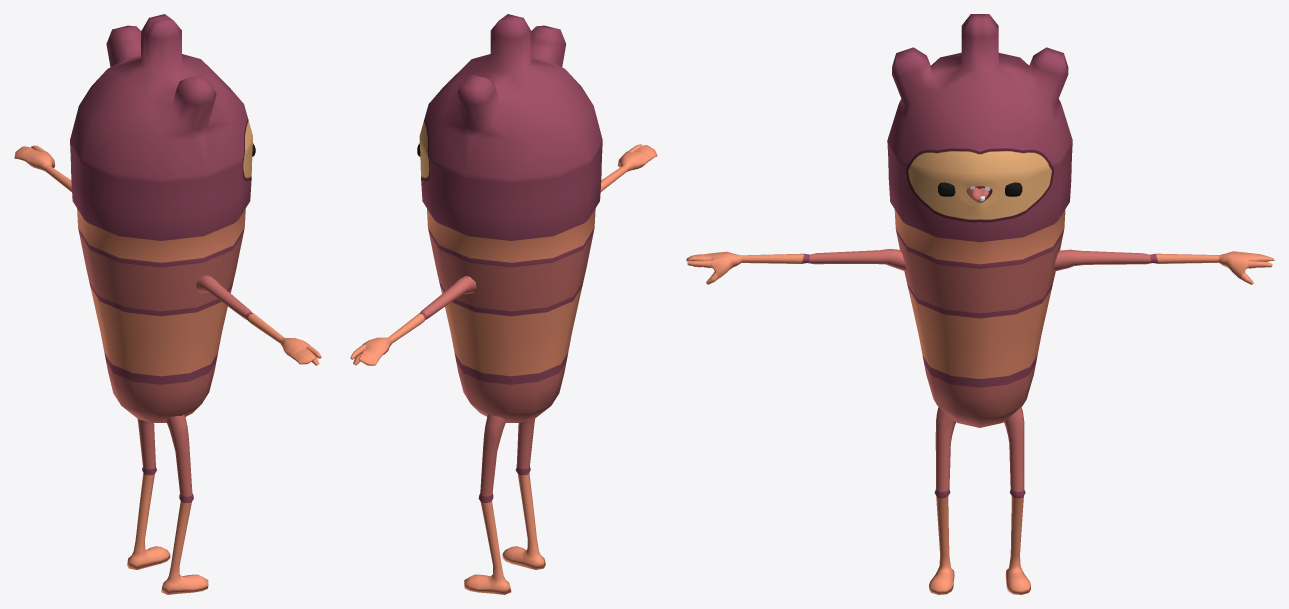
File: avatars_tposing_vegetal.glb
The picture shows the model from 3 angles, left to right: view 1: azimuth 30°, elevation 25°; view 2: azimuth 150°, elevation 25°; view 3: azimuth 270°, elevation 25°; orthographic projection.
Visible parts, largest first — view 1: Body_4; view 2: Body_4; view 3: Body_4.
Part boxes in pixels (x1,y1,x2,y2): Body_4: (14, 14, 321, 594); Body_4: (350, 14, 657, 594); Body_4: (686, 14, 1274, 594).
Size of the model in its own units: 1.69 by 5.68 by 5.37.
1 material, 1 textured.
